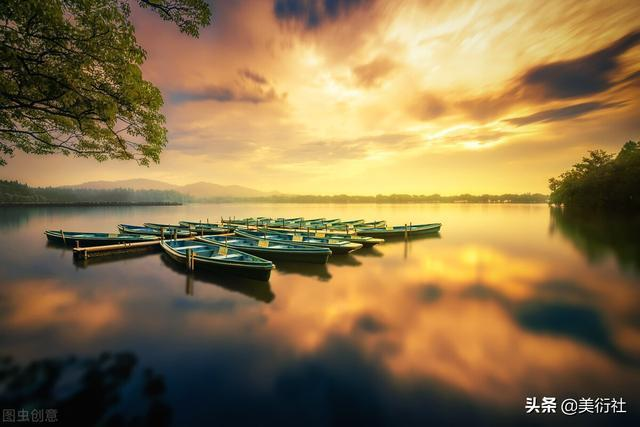sea_river: (287, 281, 619, 385)
sky_cloud: (222, 12, 543, 183)
